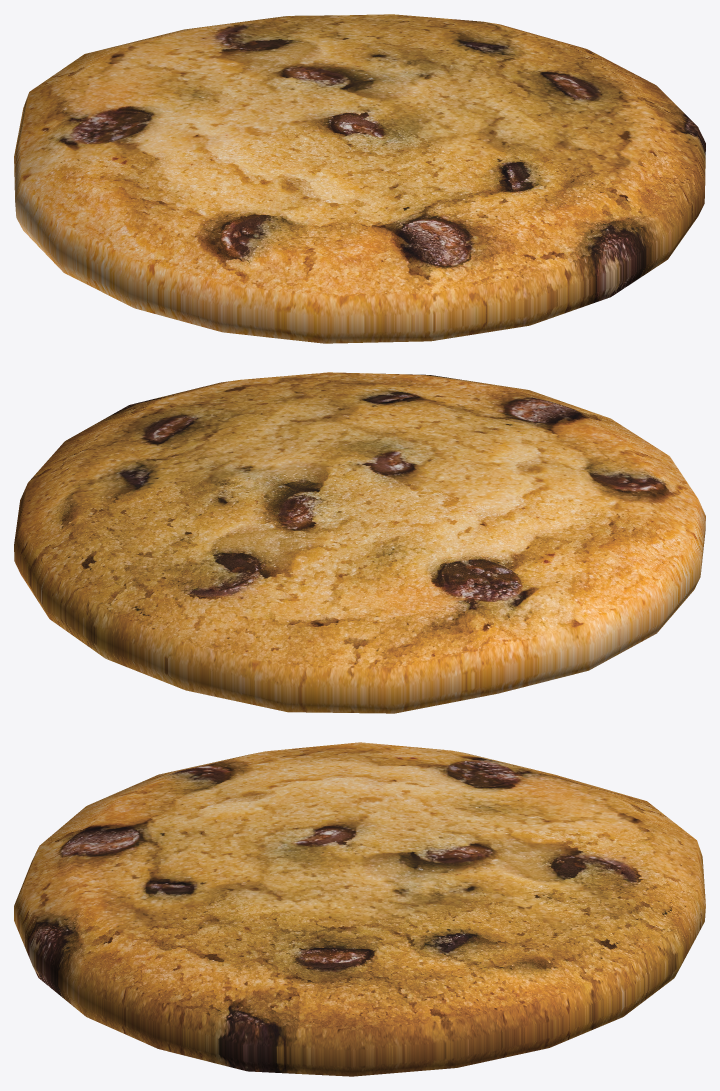
Rendered from cookie.fbx.
3 views of the same model, one above another, from view 1: azimuth 30°, elevation 25°; view 2: azimuth 150°, elevation 25°; view 3: azimuth 270°, elevation 25° (orthographic). The views are drawn at different scales.
Visible parts, largest first — view 1: pCylinder15; view 2: pCylinder15; view 3: pCylinder15.
Boxes of the visible parts, box(x1,y1,x2,y2) form: pCylinder15: box(14, 14, 705, 343); pCylinder15: box(14, 372, 705, 713); pCylinder15: box(14, 742, 705, 1076).
Bounding box in the file's own units: 1.73 × 0.2703 × 1.74.
1 material, 1 textured.
